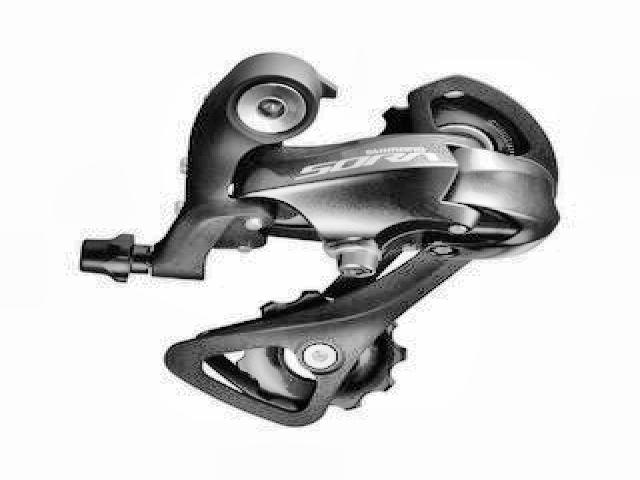rear_derailleur: (71, 48, 567, 430)
